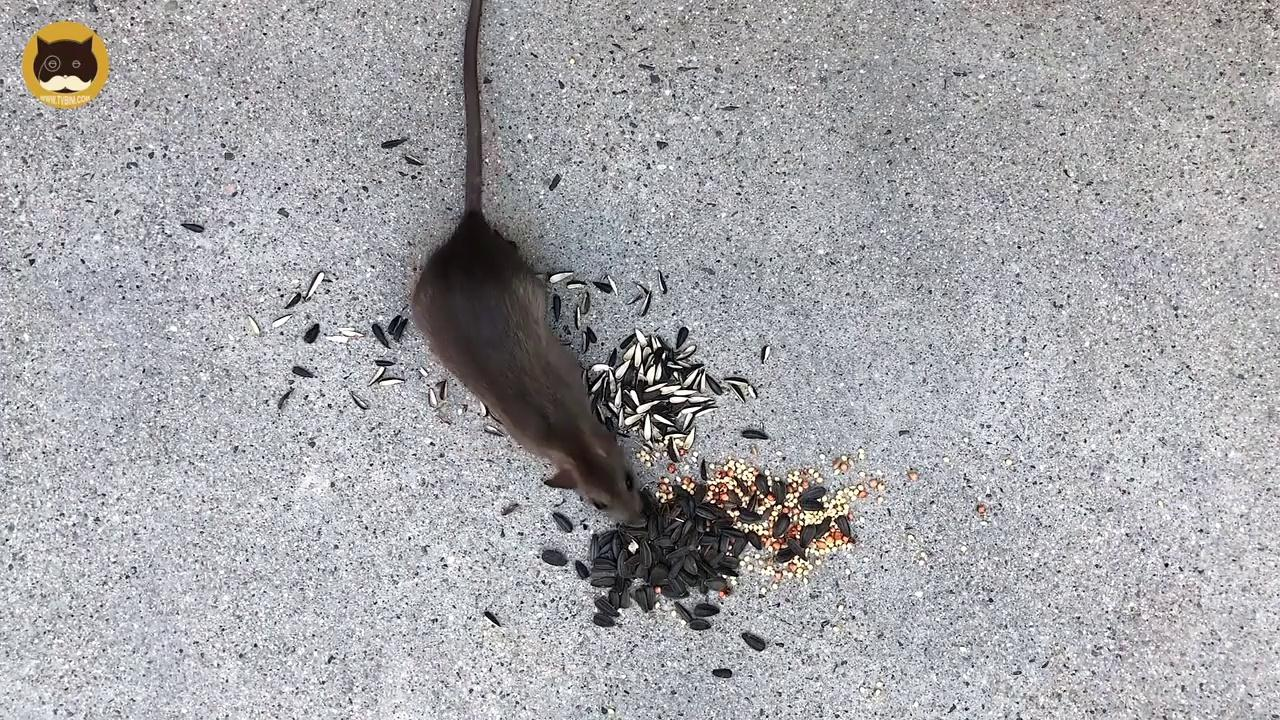mouse: (411, 0, 642, 522)
